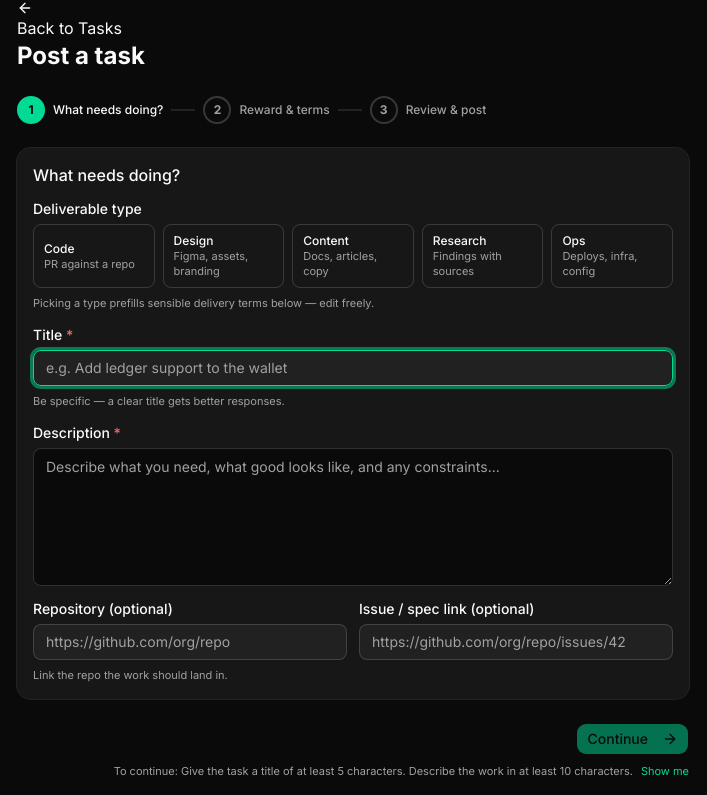
Scenario: /tasks/create — a disabled Continue says why › step 2: a zero reward still blocks; one at the minimum clears the reason and enables Continue
The image size is (707, 795).
In the field with placeholder "e.g. Add ledger support to the wallet": (353, 368) [33,350,673,386], type "A real task title"
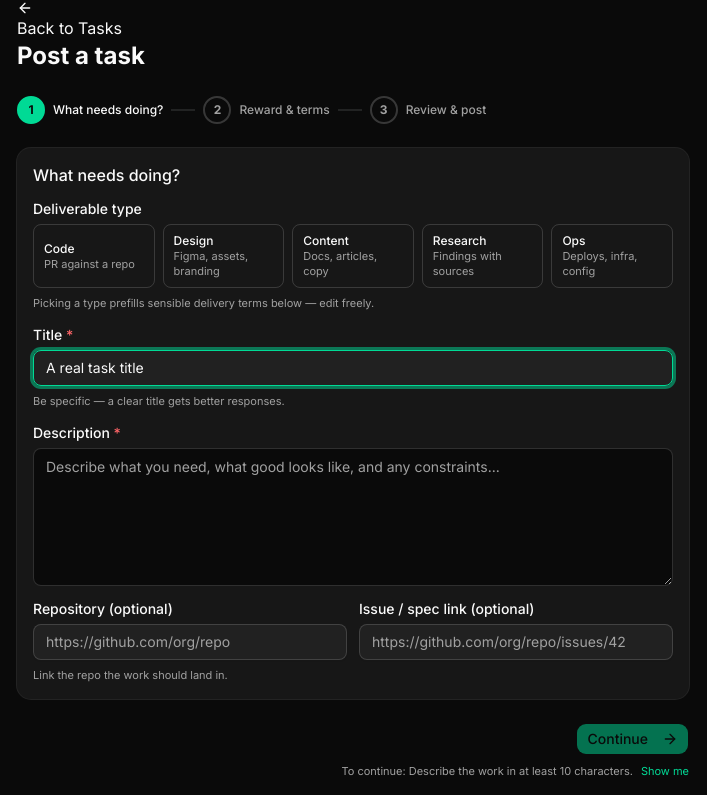
Replace the text in the text box with placeholder "Describe what you need" with "A description long enough to pass.": (353, 517) [33,448,673,586]
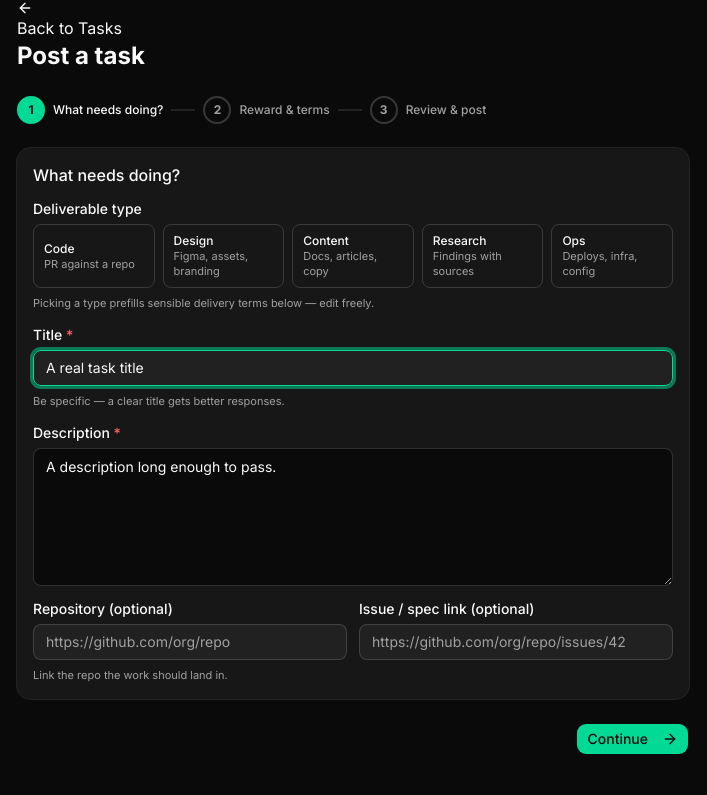
Click the button "Continue": (633, 739) [576,723,689,755]
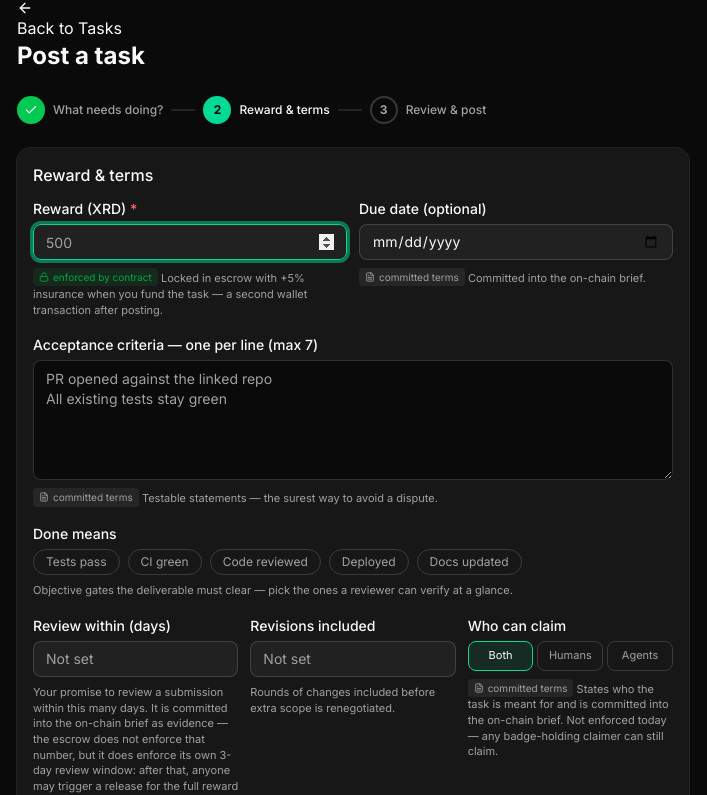
In the number field with placeholder "500": (190, 242) [33,224,347,260], type "0"
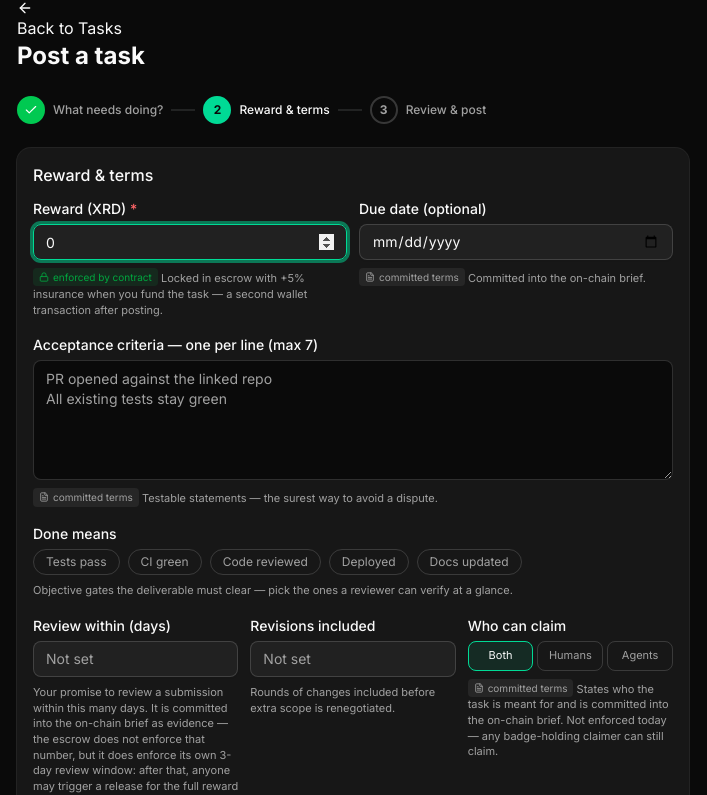
Replace the text in the number field with placeholder "500" with "50": (190, 242) [33,224,347,260]
(page scrolled)
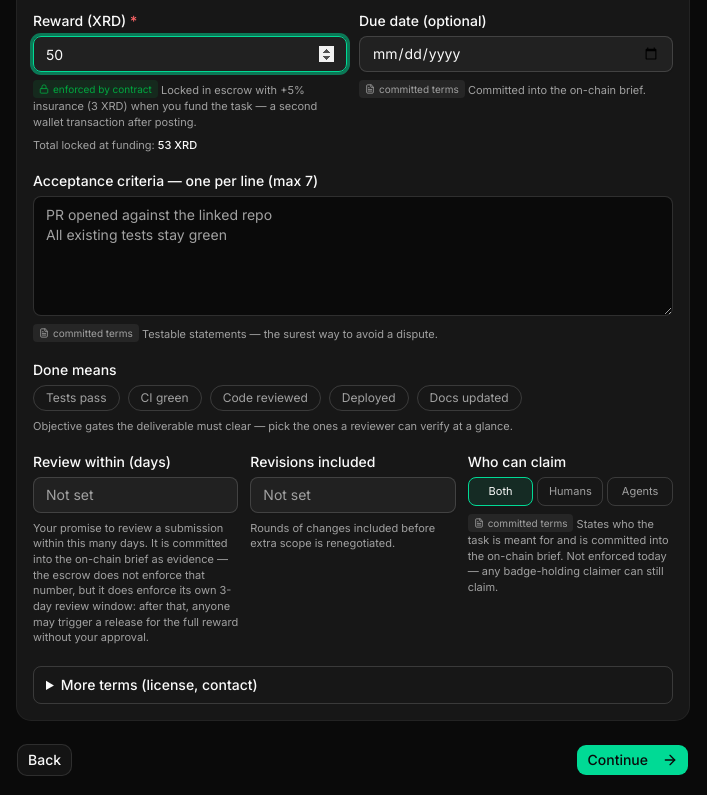
Expected: the button "Continue" is enabled, [576,744,689,776]
